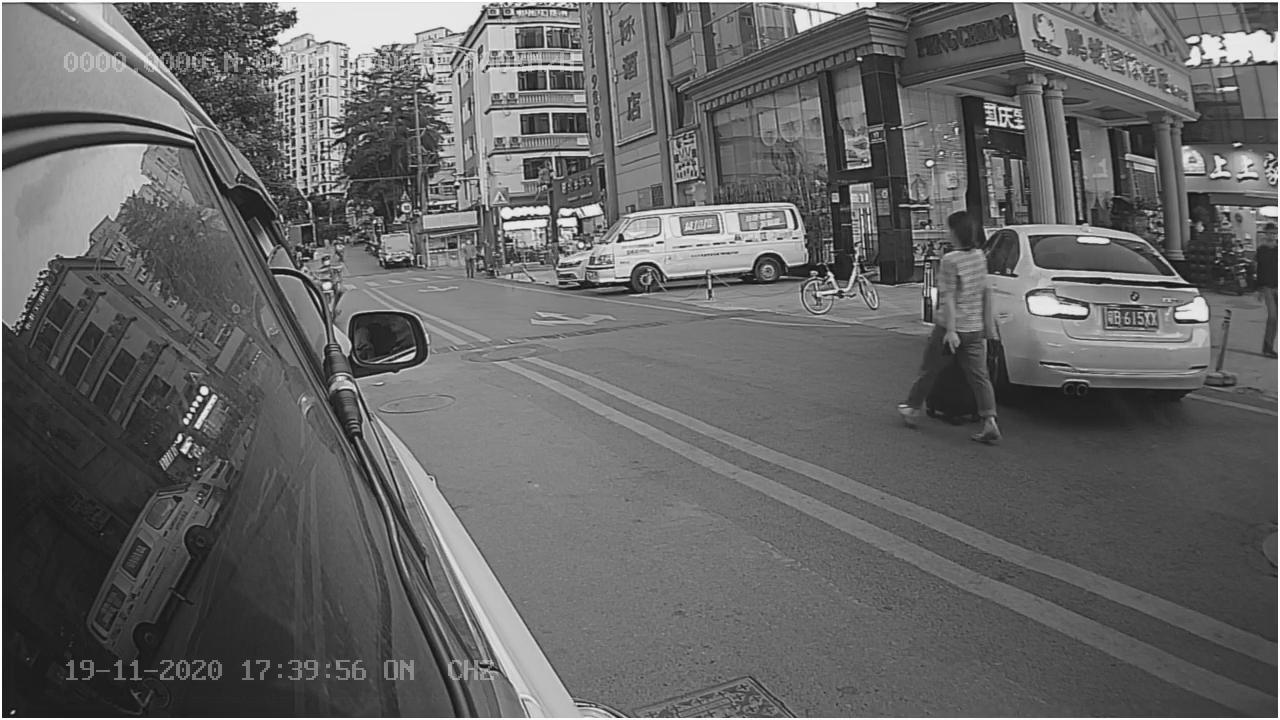person: (898, 209, 1005, 454)
